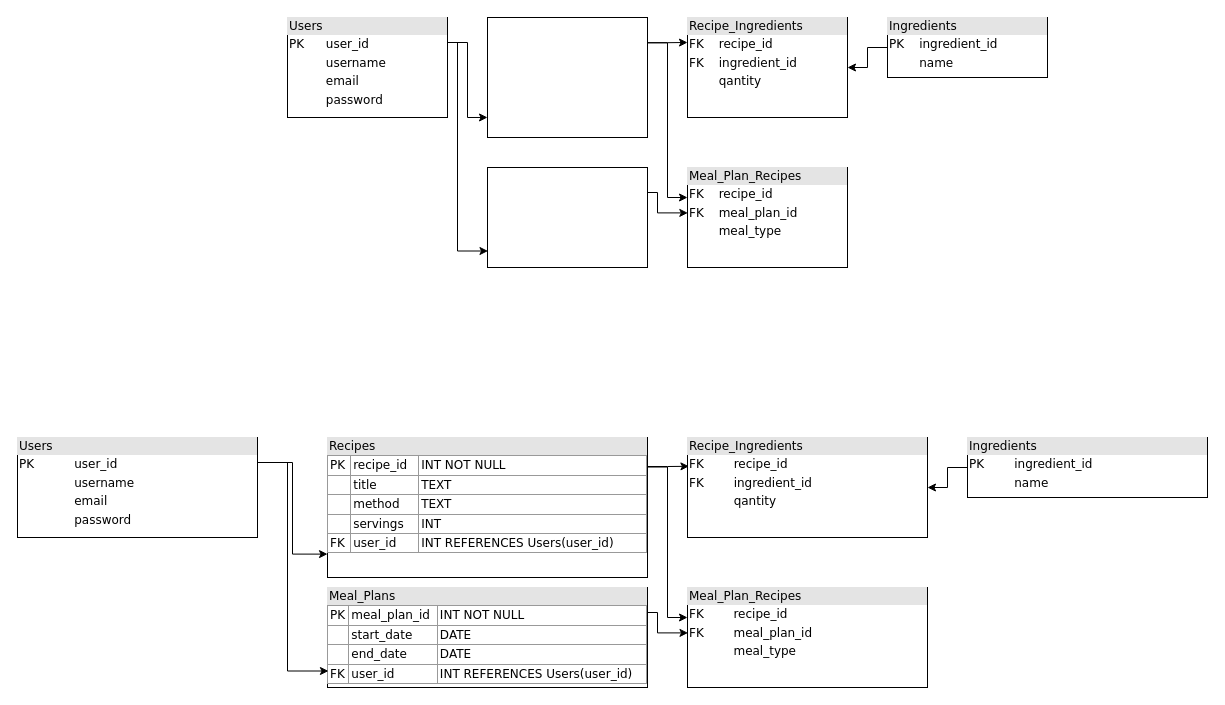
This 1225x705 diagram has some shape labels left out. Here are the shapes that lost their labels. From the top down, the box of each, then its label:
(486, 16, 648, 138): Recipes PK recipe_id title method servings FK user_id
(486, 166, 648, 268): Meal_Plans PK meal_plan_id start_date end_date FK user_id
